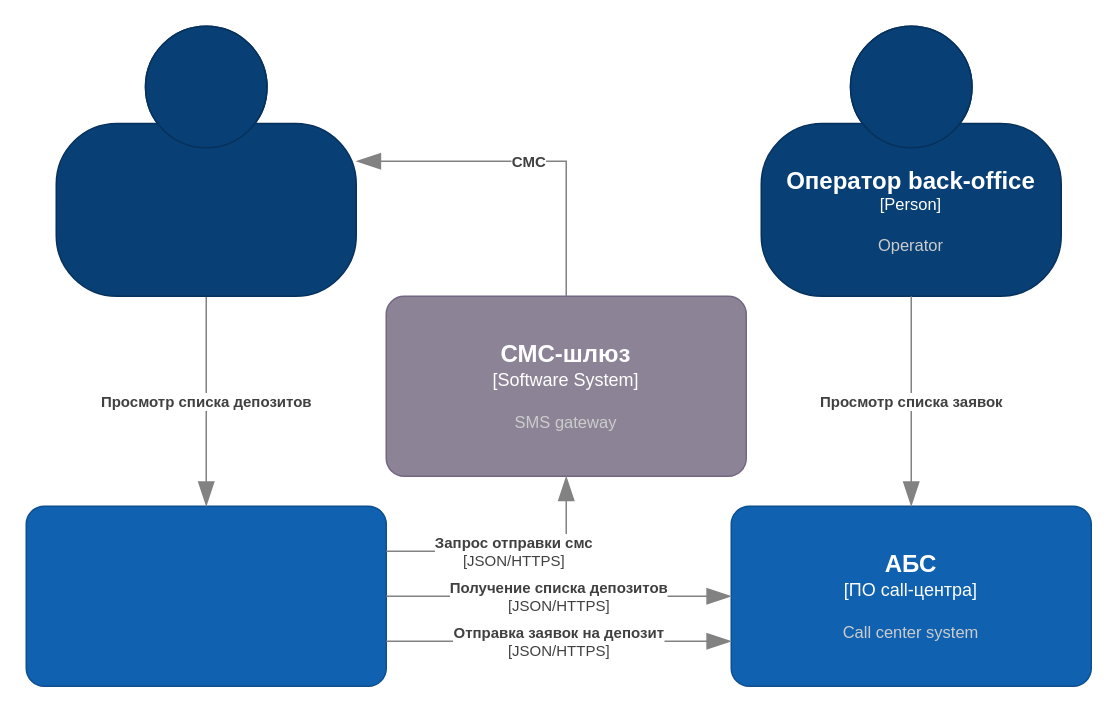
Image size: 1118x713. Some labels were removed from this diagram. Each missing label, with the centre of its shape:
Интерент-банк [Software System] Internt bank: [205,595]
Клиент [Person] Client: [205,160]
